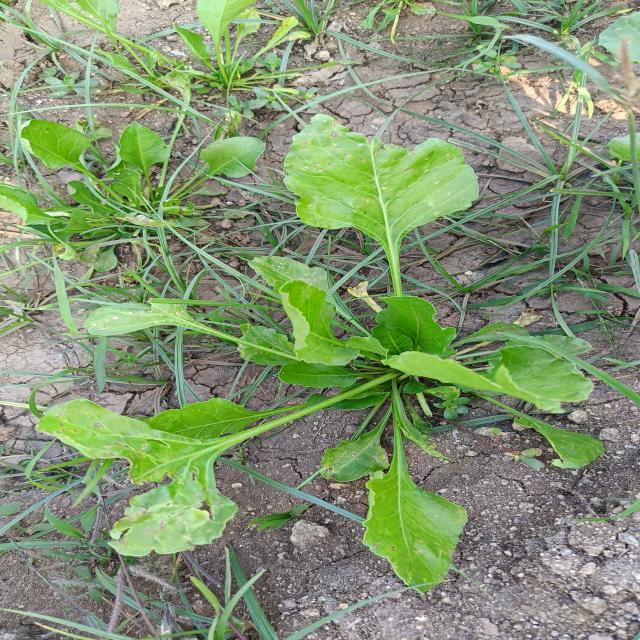leaves: (13, 356, 431, 601), (278, 102, 508, 342), (352, 371, 511, 622), (201, 251, 410, 388), (425, 312, 638, 436), (79, 295, 360, 379), (18, 112, 149, 224), (170, 131, 273, 230), (112, 117, 193, 225), (18, 174, 144, 234)
